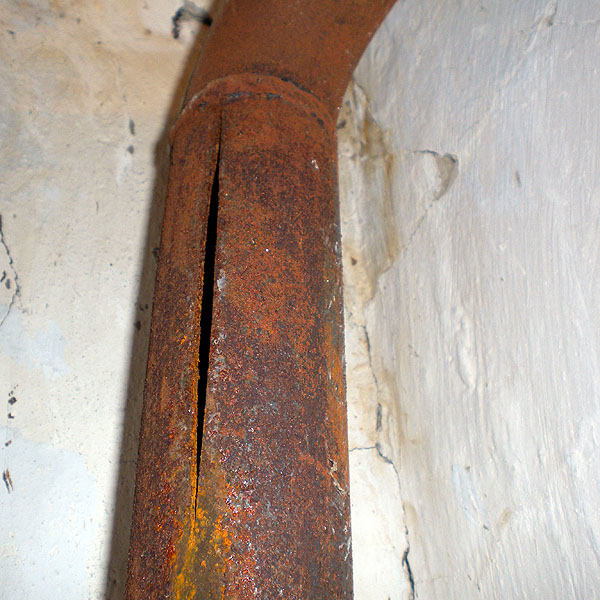crack: (182, 94, 231, 543)
